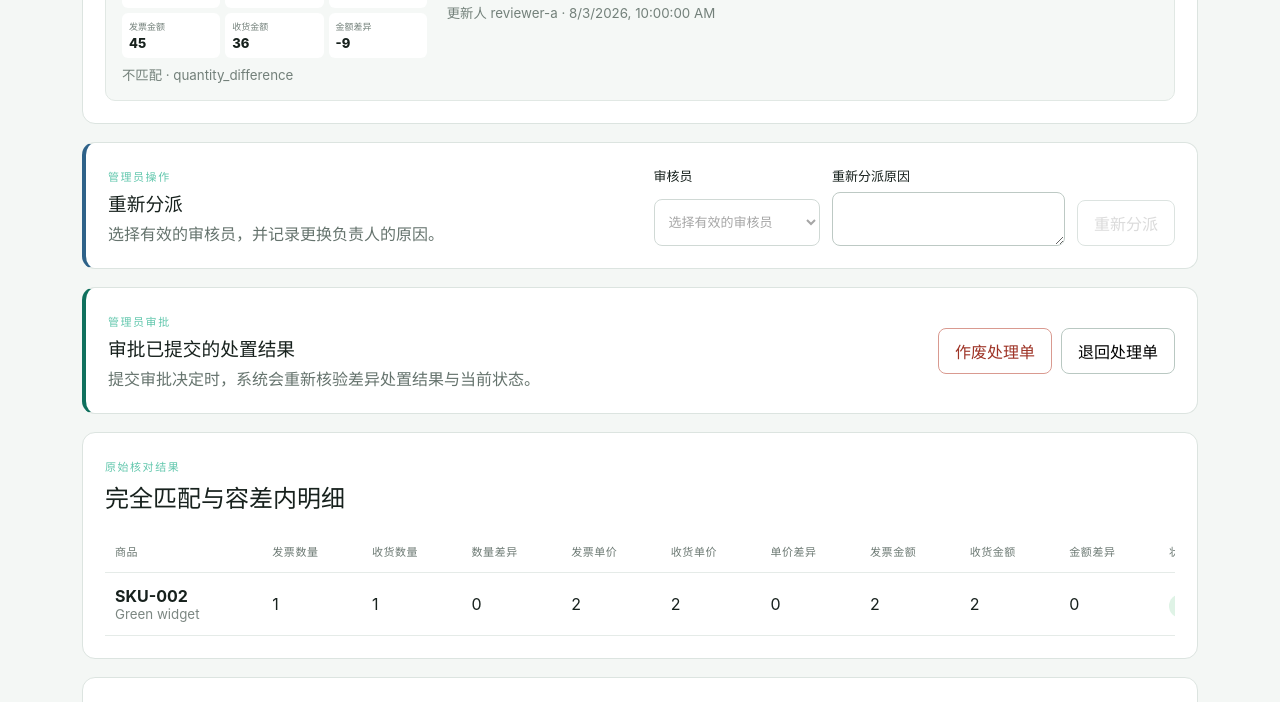
it: CaseDetailPage admin workflow › voids only a pending void Case
(page scrolled)
Click the button "作废处理单" at (995, 351), box [938,328,1052,374]
(page scrolled)
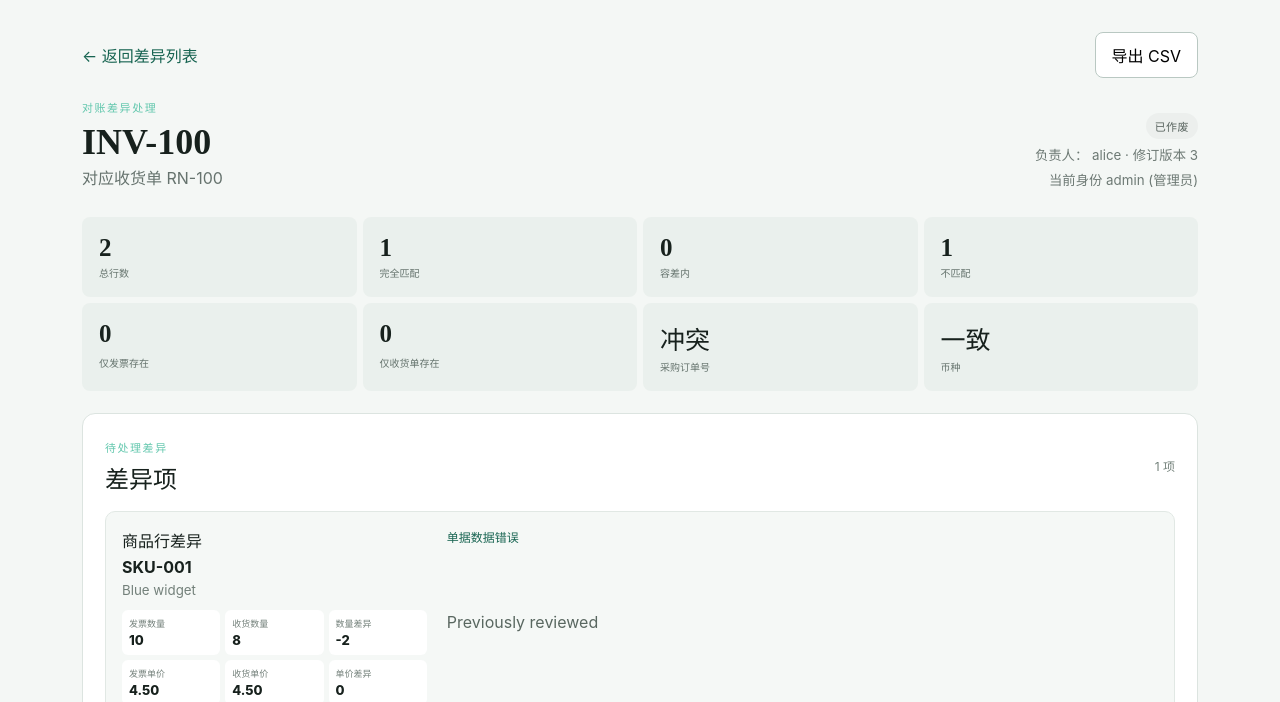
Expected: the text "已作废" is shown, [1146,113,1198,139]
